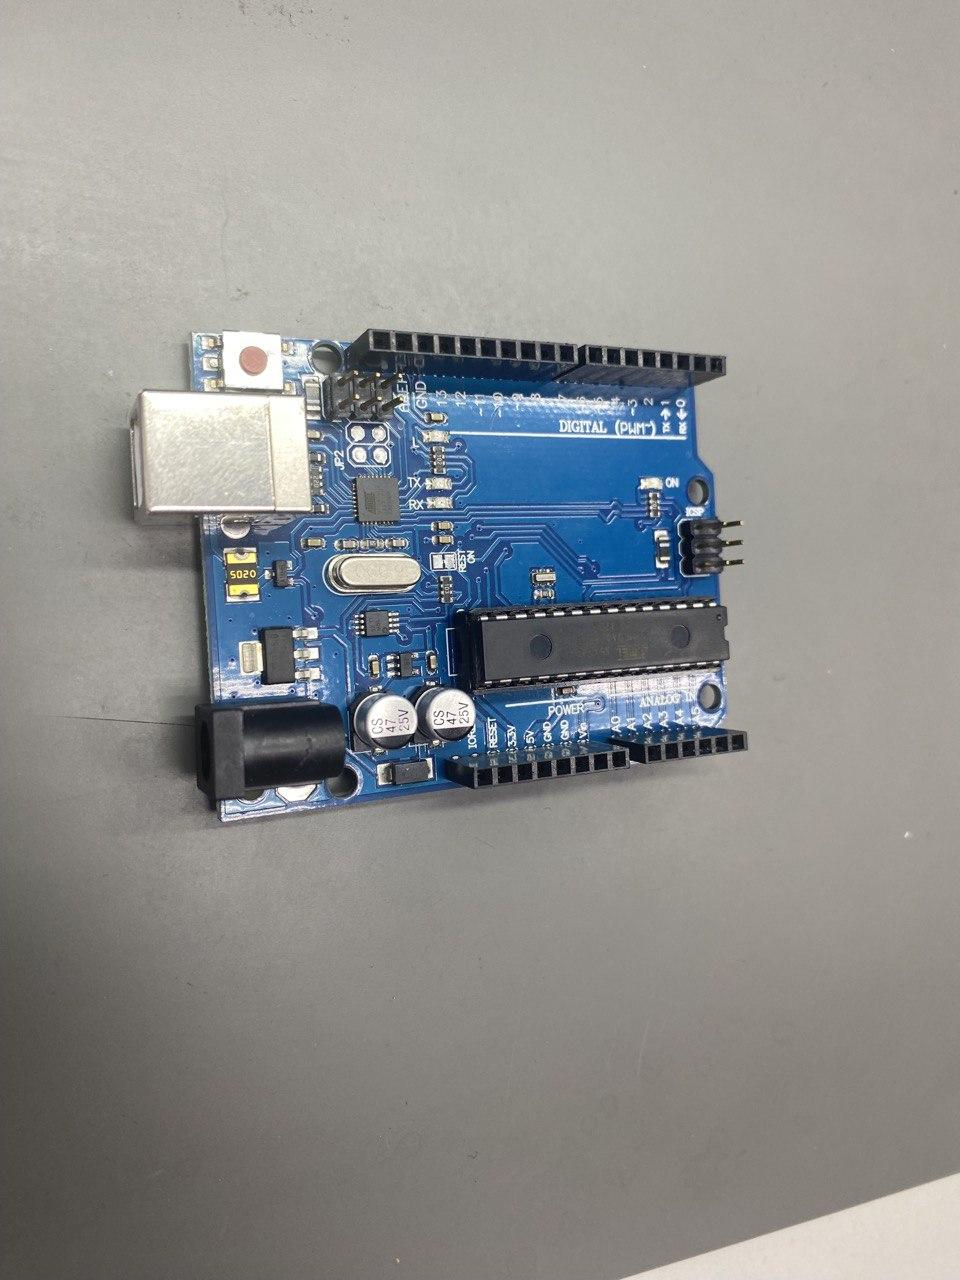ATmega328 chip: (455, 595, 730, 695)
Arduino board: (128, 329, 748, 823)
USB: (128, 390, 311, 526)
capacitor: (354, 693, 417, 750), (415, 686, 475, 742)
pins: (345, 328, 578, 382), (444, 741, 630, 789), (555, 344, 727, 390), (608, 728, 748, 764)
resistor: (432, 445, 446, 475), (311, 467, 323, 496), (441, 575, 453, 603), (648, 493, 661, 518)
